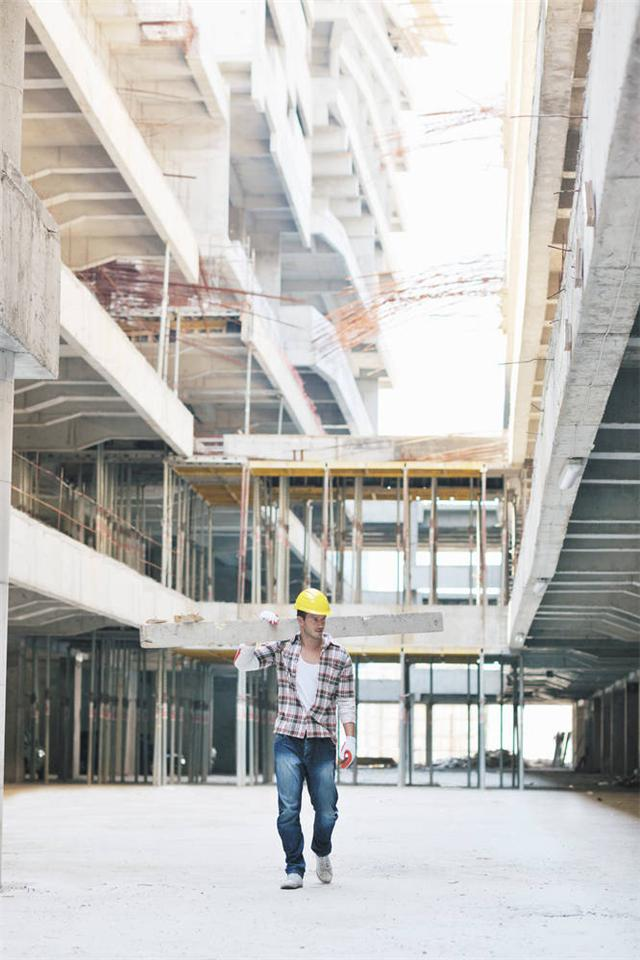helmet: (292, 588, 330, 639)
